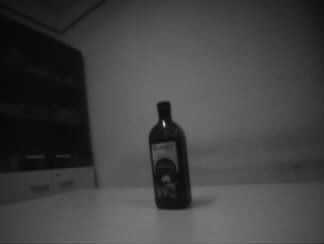Bottle: (148, 101, 192, 208)
